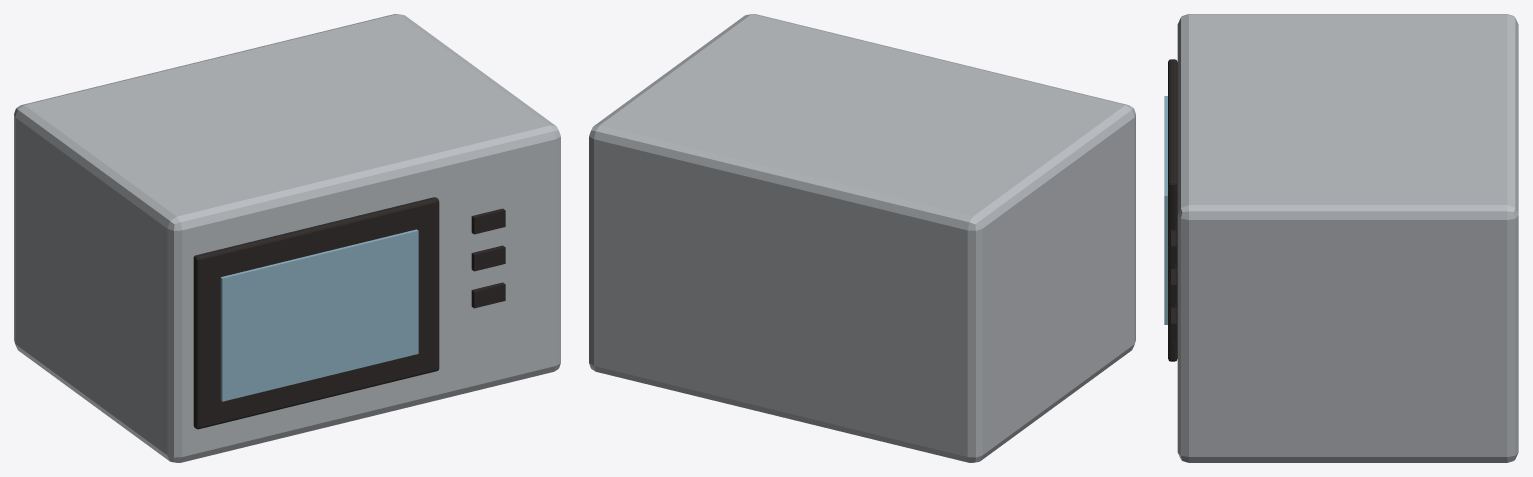
The model's file is hh_microwave.glb.
3 views of the same model, side by side, from view 1: azimuth 30°, elevation 25°; view 2: azimuth 150°, elevation 25°; view 3: azimuth 270°, elevation 25° (orthographic). The views are drawn at different scales.
Parts seen in each view (by area): view 1: body, window, door, button.002, button, button.001; view 2: body; view 3: body, door, window.
Boxes of the visible parts, box(x1,y1,x2,y2) form: body: box(14, 14, 560, 462); window: box(220, 229, 418, 401); door: box(193, 197, 439, 429); button.002: box(471, 282, 505, 308); button: box(471, 208, 505, 234); button.001: box(471, 245, 505, 271); body: box(589, 14, 1135, 462); body: box(1177, 14, 1518, 462); door: box(1168, 59, 1177, 361); window: box(1164, 96, 1167, 324).
Size of the model in its own units: 0.5 by 0.3 by 0.374.
